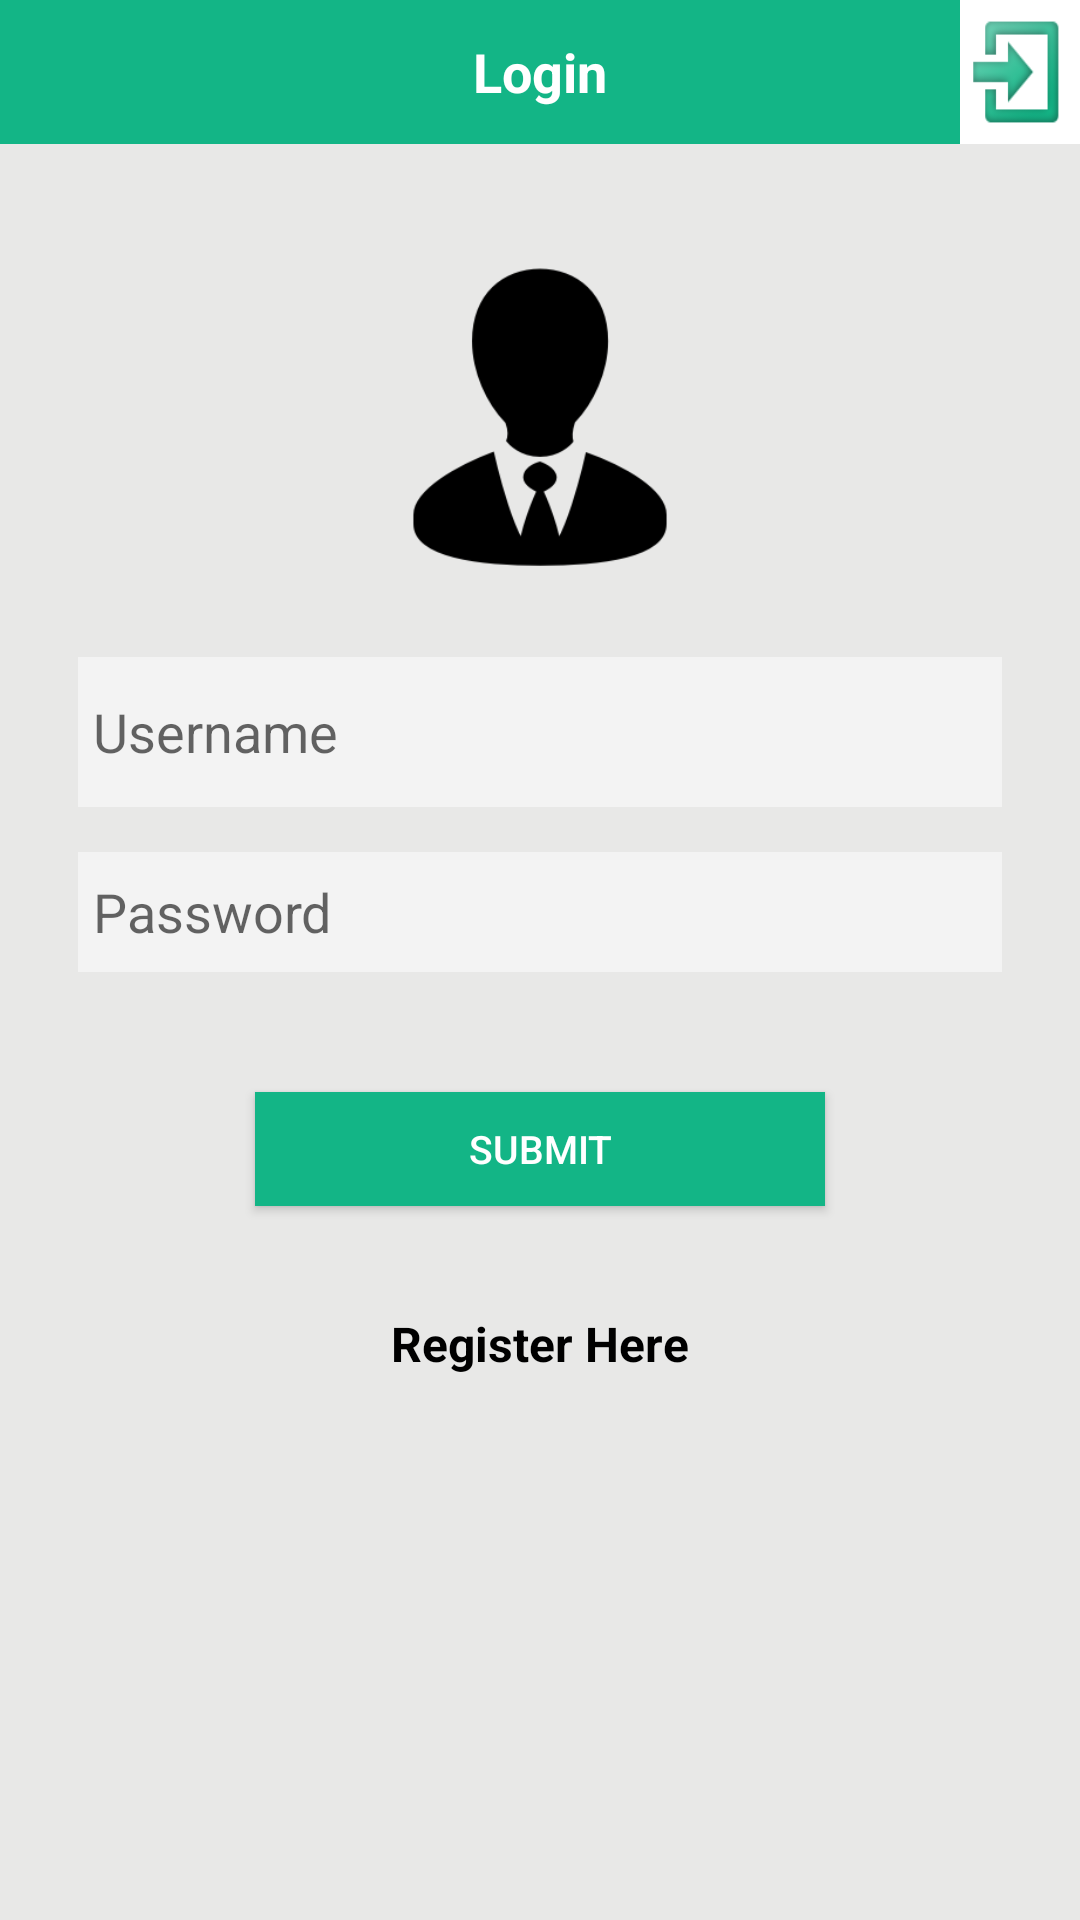

Point at icon controls on the screen. Image size 1080 × 1920, points as (x,y).
admin: (540,417)
login: (1020,72)
